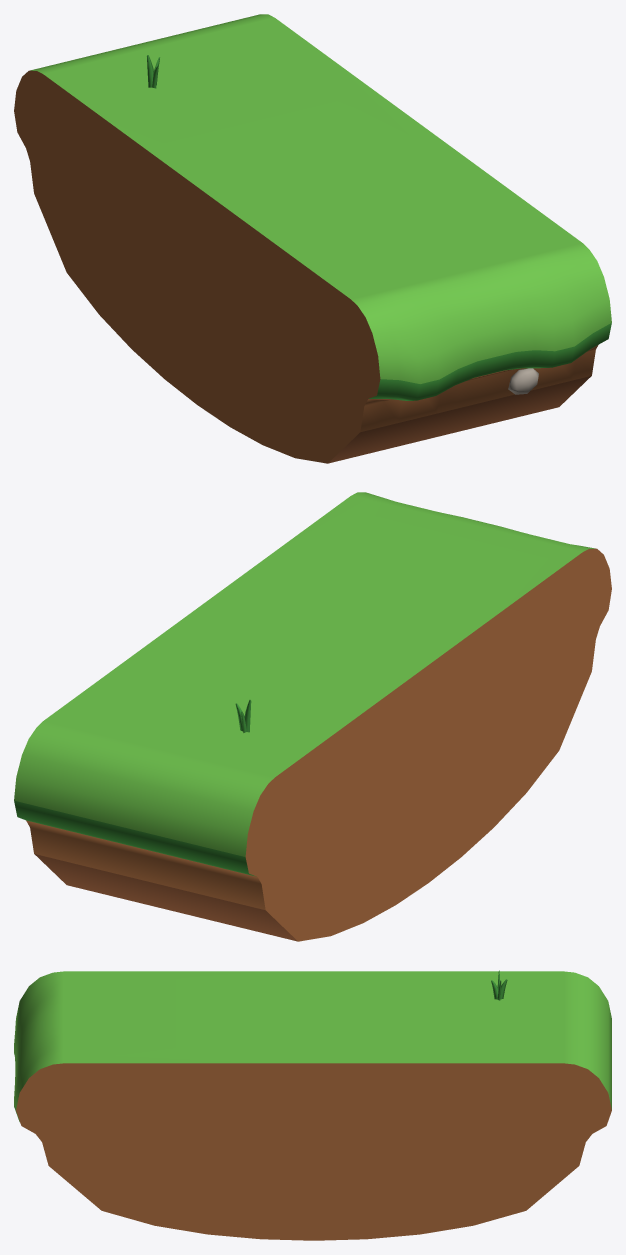
Rendered from float_mid_a.glb.
3 views of the same model, one above another, from view 1: azimuth 30°, elevation 25°; view 2: azimuth 150°, elevation 25°; view 3: azimuth 270°, elevation 25° (orthographic). The views are drawn at different scales.
Visible parts, largest first — view 1: float_mid_a; view 2: float_mid_a; view 3: float_mid_a.
Boxes of the visible parts, <box> form: float_mid_a: <box>14,14,611,463</box>; float_mid_a: <box>14,492,611,941</box>; float_mid_a: <box>14,970,611,1240</box>.
Size of the model in its own units: 1 by 1.04 by 2.75.
